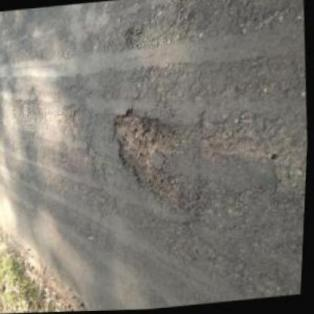Hueco: (109, 102, 184, 204), (122, 24, 147, 50)
